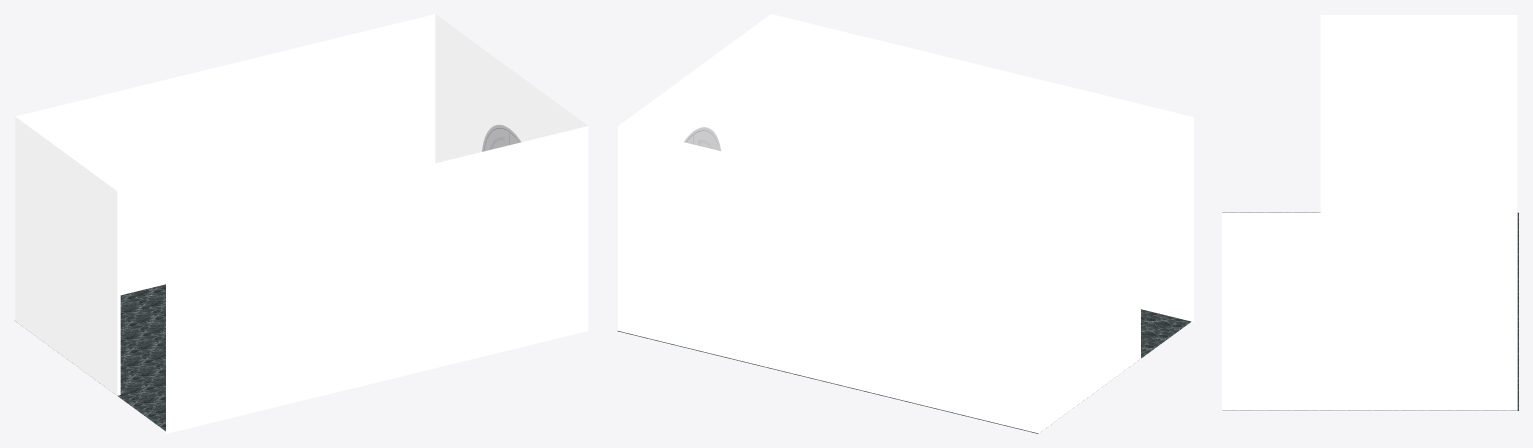
Rendered from cuartoamor_02.glb.
3 views of the same model, side by side, from view 1: azimuth 30°, elevation 25°; view 2: azimuth 150°, elevation 25°; view 3: azimuth 270°, elevation 25° (orthographic). The views are drawn at different scales.
Visible parts, largest first — view 1: paredes, pisomarmol, puerta; view 2: paredes, pisomarmol, puerta; view 3: paredes, pisomarmol.
Boxes of the visible parts, <box> form: paredes: <box>15,14,588,433</box>; pisomarmol: <box>21,284,165,431</box>; puerta: <box>482,124,520,151</box>; paredes: <box>618,14,1193,433</box>; pisomarmol: <box>617,309,1191,433</box>; puerta: <box>684,127,720,150</box>; paredes: <box>1222,15,1517,411</box>; pisomarmol: <box>1222,212,1518,410</box>.
Size of the model in its own units: 189 by 97.65 by 119.
Materials: 4 (2 with a texture image).
